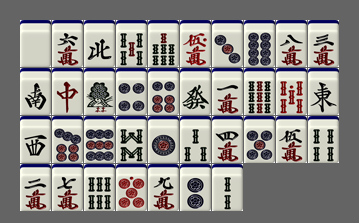0m: (180, 20, 211, 67)
0p: (116, 164, 147, 211)
0s: (276, 68, 307, 115)
1m: (212, 68, 243, 115)
1p: (148, 116, 179, 163)
1s: (84, 68, 115, 115)
1z: (308, 68, 339, 115)
2m: (20, 164, 51, 211)
2p: (180, 164, 211, 211)
2s: (212, 164, 243, 211)
2z: (20, 68, 51, 115)
3m: (308, 20, 339, 67)
3p: (212, 20, 243, 67)
3s: (180, 116, 211, 163)
3z: (20, 116, 51, 163)
4m: (212, 116, 243, 163)
4p: (116, 68, 147, 115)
4s: (308, 116, 339, 163)
4z: (84, 20, 115, 67)
5m: (276, 116, 307, 163)
5p: (244, 116, 275, 163)
5s: (116, 20, 147, 67)
5z: (20, 20, 51, 67)
6m: (52, 20, 83, 67)
6p: (148, 68, 179, 115)
6s: (84, 164, 115, 211)
6z: (180, 68, 211, 115)
7m: (52, 164, 83, 211)
7p: (52, 116, 83, 163)
7s: (148, 20, 179, 67)
7z: (52, 68, 83, 115)
8m: (276, 20, 307, 67)
8p: (244, 20, 275, 67)
8s: (116, 116, 147, 163)
9m: (148, 164, 179, 211)
9p: (84, 116, 115, 163)
9s: (244, 68, 275, 115)
